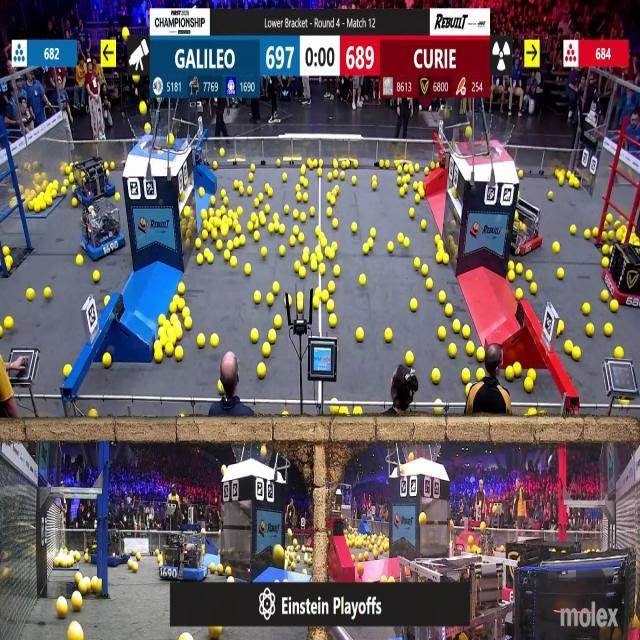ball_airborne: (464, 127, 472, 138), (140, 102, 147, 114), (121, 28, 128, 40), (259, 447, 266, 457), (144, 121, 150, 131), (169, 136, 174, 146)
ball_ground: (58, 598, 69, 618), (70, 624, 83, 640), (72, 594, 82, 611), (78, 580, 88, 594), (92, 576, 101, 591), (275, 547, 284, 562), (174, 347, 183, 361), (165, 344, 174, 358), (257, 362, 265, 377), (515, 362, 523, 377), (103, 353, 111, 367), (275, 315, 283, 329), (406, 352, 414, 366), (384, 328, 392, 342), (506, 366, 514, 380), (616, 347, 625, 359), (587, 323, 595, 336), (461, 325, 469, 338), (154, 350, 162, 363), (328, 314, 336, 327), (198, 336, 206, 349), (466, 343, 474, 356), (525, 379, 533, 392), (478, 348, 486, 361), (264, 344, 272, 357), (564, 343, 572, 356), (4, 255, 12, 268), (251, 328, 258, 342), (432, 370, 439, 384), (450, 344, 457, 358), (462, 368, 469, 382), (356, 328, 363, 342), (211, 336, 219, 348), (27, 288, 35, 300), (604, 323, 612, 335), (64, 364, 72, 376), (4, 317, 12, 329), (572, 348, 580, 360), (269, 332, 277, 344), (244, 265, 252, 277), (516, 264, 524, 276), (478, 368, 486, 380), (313, 296, 321, 308), (439, 326, 446, 339), (530, 283, 538, 294), (601, 290, 609, 301), (175, 328, 183, 339), (220, 225, 228, 236), (28, 201, 36, 212), (268, 292, 275, 304), (326, 302, 333, 314), (178, 283, 185, 295), (517, 288, 524, 300), (584, 304, 591, 316), (610, 301, 617, 313), (446, 306, 453, 318), (439, 290, 446, 302), (273, 282, 280, 294), (453, 320, 460, 332), (419, 514, 426, 526), (177, 300, 184, 312), (170, 304, 178, 314), (252, 220, 260, 230), (183, 208, 191, 218), (558, 321, 564, 334), (184, 318, 191, 329), (426, 279, 433, 290), (253, 291, 260, 302), (94, 272, 101, 283), (602, 256, 609, 267), (528, 367, 535, 378), (421, 266, 428, 277), (602, 245, 609, 256), (171, 314, 178, 325), (321, 290, 328, 301), (412, 300, 418, 312), (554, 242, 560, 254), (44, 287, 50, 299), (160, 314, 166, 326), (507, 272, 514, 282), (194, 240, 201, 250), (420, 220, 427, 230), (231, 257, 238, 267), (259, 247, 266, 257), (195, 254, 202, 264), (258, 214, 265, 224), (311, 263, 318, 273), (331, 218, 338, 228), (153, 341, 160, 351), (182, 308, 189, 318), (324, 247, 331, 257), (214, 217, 221, 227), (388, 242, 394, 253), (298, 234, 304, 245), (526, 271, 532, 282), (444, 253, 450, 264), (558, 269, 564, 280), (335, 267, 341, 278), (359, 275, 365, 286), (319, 266, 325, 277), (328, 282, 334, 293), (330, 408, 338, 416), (507, 263, 514, 272), (3, 247, 10, 256), (434, 409, 441, 418), (253, 233, 260, 242), (91, 411, 98, 420), (311, 253, 318, 262), (401, 175, 408, 184), (236, 224, 242, 234), (570, 224, 576, 234), (403, 238, 409, 248), (298, 269, 304, 279), (362, 244, 368, 254), (436, 253, 442, 263), (279, 246, 285, 256), (216, 241, 222, 251), (280, 224, 286, 234), (76, 254, 82, 264), (225, 566, 231, 576), (369, 230, 375, 240), (269, 222, 275, 232), (212, 230, 218, 240), (410, 208, 416, 218), (414, 257, 420, 267), (104, 295, 110, 305), (298, 212, 304, 222), (223, 250, 229, 260), (217, 564, 223, 574), (235, 239, 241, 249), (133, 562, 139, 572), (397, 234, 403, 244), (275, 222, 281, 232), (76, 572, 82, 582), (528, 410, 536, 417), (316, 247, 323, 255), (354, 410, 362, 417), (253, 200, 260, 208), (331, 162, 338, 170), (340, 408, 347, 416), (388, 575, 396, 582), (241, 236, 246, 247), (217, 383, 222, 394), (208, 254, 214, 263), (114, 191, 120, 200), (284, 206, 290, 215), (248, 222, 254, 231), (586, 231, 592, 240), (331, 242, 337, 251), (226, 241, 232, 250), (367, 239, 373, 248), (304, 254, 310, 263), (202, 210, 208, 219), (415, 192, 421, 201), (299, 167, 305, 176), (239, 186, 245, 195), (558, 177, 564, 186), (434, 236, 440, 245), (602, 233, 608, 242), (160, 327, 166, 336), (335, 185, 341, 194), (568, 178, 574, 187), (203, 219, 209, 228), (297, 302, 302, 312), (352, 222, 357, 232), (290, 237, 295, 247), (129, 560, 134, 570), (294, 262, 299, 272), (211, 197, 216, 207), (211, 563, 216, 573), (358, 562, 363, 572), (226, 216, 231, 226), (304, 178, 309, 188), (72, 200, 78, 208), (203, 232, 209, 240), (282, 174, 288, 182), (316, 288, 322, 296), (248, 174, 254, 182), (593, 230, 599, 238), (252, 213, 258, 221), (292, 211, 298, 219), (266, 206, 272, 214), (396, 177, 402, 185), (310, 208, 316, 216), (208, 209, 214, 217), (204, 248, 210, 256), (329, 198, 335, 206), (316, 169, 322, 177), (220, 188, 226, 196), (110, 163, 116, 171), (299, 177, 305, 185), (237, 208, 243, 216), (413, 182, 419, 190), (318, 161, 324, 169), (555, 170, 561, 178), (62, 186, 68, 194), (362, 554, 368, 562), (547, 190, 552, 199), (274, 213, 279, 222), (326, 208, 331, 217), (304, 192, 309, 201), (247, 186, 252, 195), (321, 239, 326, 248), (219, 148, 224, 157), (200, 187, 205, 196), (606, 214, 611, 223), (296, 292, 302, 299), (276, 161, 282, 168), (282, 412, 288, 419), (380, 162, 386, 169), (467, 536, 473, 543), (566, 172, 572, 179), (371, 182, 376, 190), (519, 171, 524, 179), (316, 226, 321, 234), (292, 226, 297, 234), (296, 192, 301, 200), (327, 172, 332, 180), (269, 188, 274, 196), (341, 172, 346, 180), (258, 192, 263, 200), (227, 209, 232, 217), (222, 199, 227, 207), (0, 326, 4, 336), (215, 210, 220, 218), (424, 168, 429, 176), (250, 165, 255, 173), (372, 553, 377, 561), (326, 191, 331, 199), (385, 162, 390, 170), (430, 163, 435, 171), (352, 176, 356, 185), (399, 187, 403, 196), (235, 180, 239, 189), (381, 575, 387, 581), (84, 555, 88, 564), (370, 176, 376, 182), (295, 184, 300, 191), (353, 162, 358, 169), (304, 568, 309, 575), (154, 550, 159, 557), (64, 180, 69, 187), (51, 189, 56, 196), (351, 555, 356, 562), (137, 554, 141, 562), (288, 297, 292, 305), (214, 160, 218, 168), (266, 184, 270, 192), (306, 557, 310, 565), (291, 562, 295, 570), (500, 544, 504, 552), (406, 164, 410, 172), (435, 398, 441, 403), (416, 166, 420, 173), (105, 163, 108, 171), (368, 577, 371, 582)
goal: (460, 118, 515, 158), (126, 120, 186, 152)
robot_blue: (80, 204, 126, 260), (160, 532, 208, 582), (71, 158, 115, 206), (102, 529, 126, 565)
robot_red: (606, 223, 640, 310), (508, 214, 542, 256)
